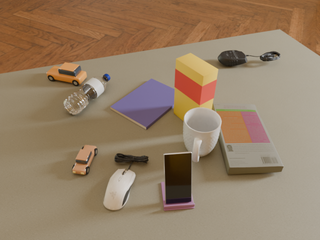book: (212, 103, 283, 174), (111, 79, 175, 130)
bottle: (64, 74, 110, 115)
box: (174, 53, 218, 120)
cup: (183, 107, 222, 162)
mouse: (104, 169, 135, 210), (218, 50, 250, 66)
phone: (164, 151, 192, 204)
toy_car: (47, 63, 87, 86), (72, 145, 97, 175)
